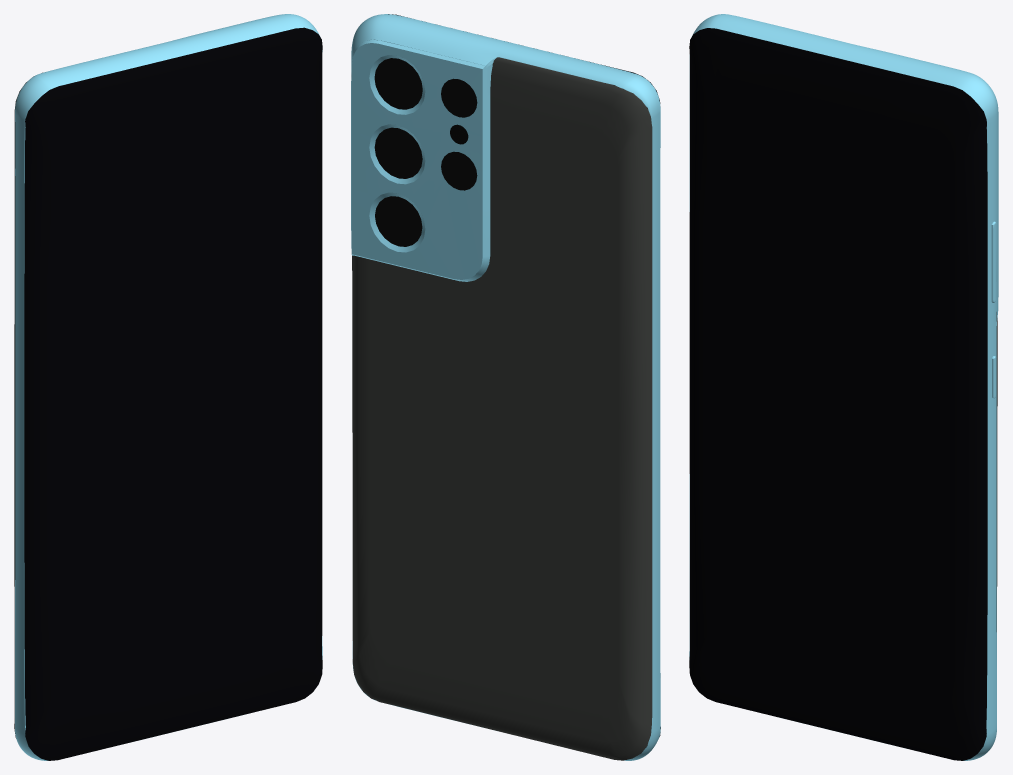
File: blue_black.glb
The picture shows the model from 3 angles, left to right: view 1: azimuth 30°, elevation 25°; view 2: azimuth 150°, elevation 25°; view 3: azimuth 330°, elevation 25°; orthographic projection.
Parts seen in each view (by area): view 1: uploads-files-2943098-samsung+galaxy+s21+ultra; view 2: uploads-files-2943098-samsung+galaxy+s21+ultra; view 3: uploads-files-2943098-samsung+galaxy+s21+ultra.
Boxes of the visible parts, bbox=[...] form: uploads-files-2943098-samsung+galaxy+s21+ultra: bbox=[14, 14, 322, 760]; uploads-files-2943098-samsung+galaxy+s21+ultra: bbox=[351, 14, 660, 760]; uploads-files-2943098-samsung+galaxy+s21+ultra: bbox=[689, 14, 998, 760].
Bounding box in the file's own units: 9.61 × 20.81 × 1.45.
